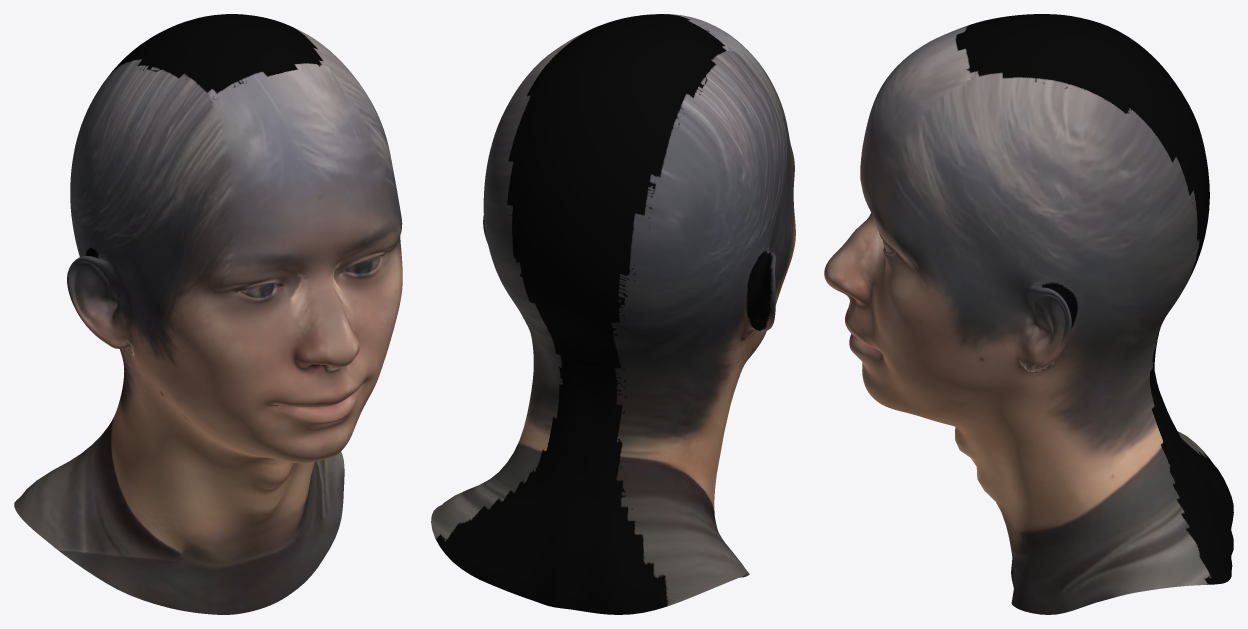
The model's file is head_sculpture.glb.
3 renders of one model, left to right at view 1: azimuth 30°, elevation 25°; view 2: azimuth 150°, elevation 25°; view 3: azimuth 270°, elevation 25°, orthographic. The views are drawn at different scales.
Parts seen in each view (by area): view 1: FBHead; view 2: FBHead; view 3: FBHead.
Part boxes in pixels (x1,y1,x2,y2): FBHead: (14,14,402,614); FBHead: (431,14,795,614); FBHead: (824,14,1233,614).
Bounding box in the file's own units: 0.6825 × 1.19 × 0.7784.
Materials: 1 (1 with a texture image).
